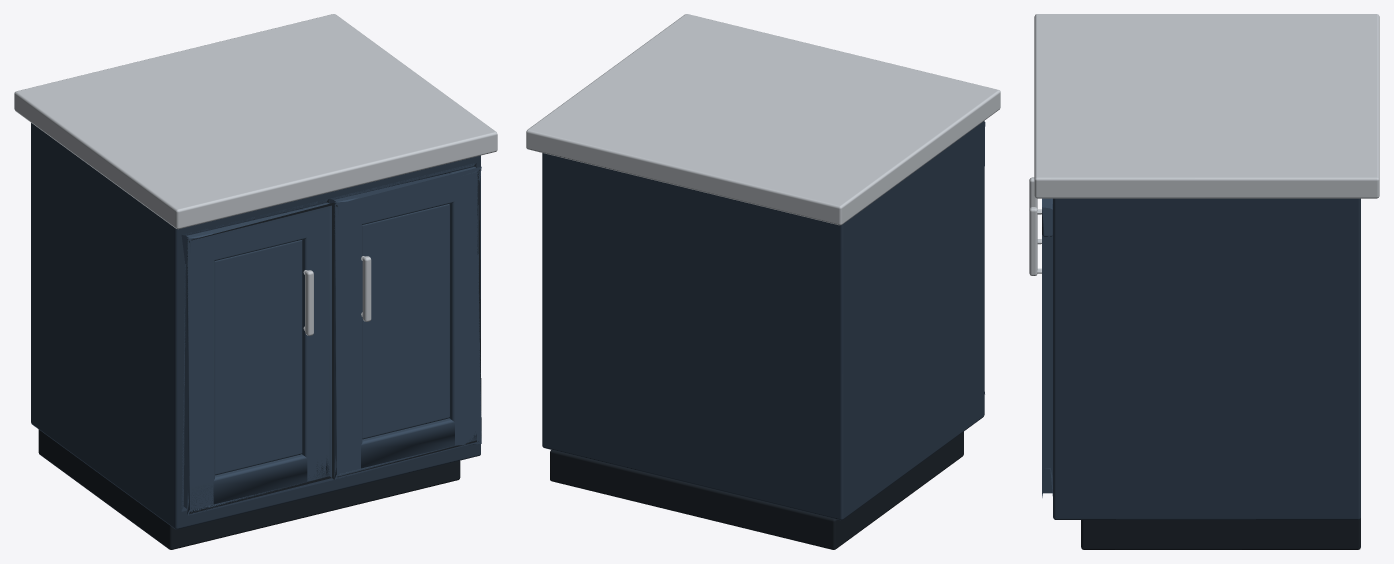
File: Counter.glb
3 views of the same model, side by side, from view 1: azimuth 30°, elevation 25°; view 2: azimuth 150°, elevation 25°; view 3: azimuth 270°, elevation 25° (orthographic). The views are drawn at different scales.
Visible parts, largest first — view 1: Counter; view 2: Counter; view 3: Counter.
Part boxes in pixels (<box>): Counter: <box>14,14,497,549</box>; Counter: <box>526,14,1000,549</box>; Counter: <box>1029,14,1379,549</box>.
Size of the model in its own units: 0.84 by 0.9 by 0.751.
